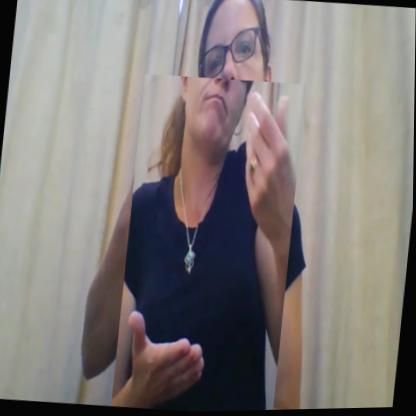Expensive: (113, 72, 307, 414)
